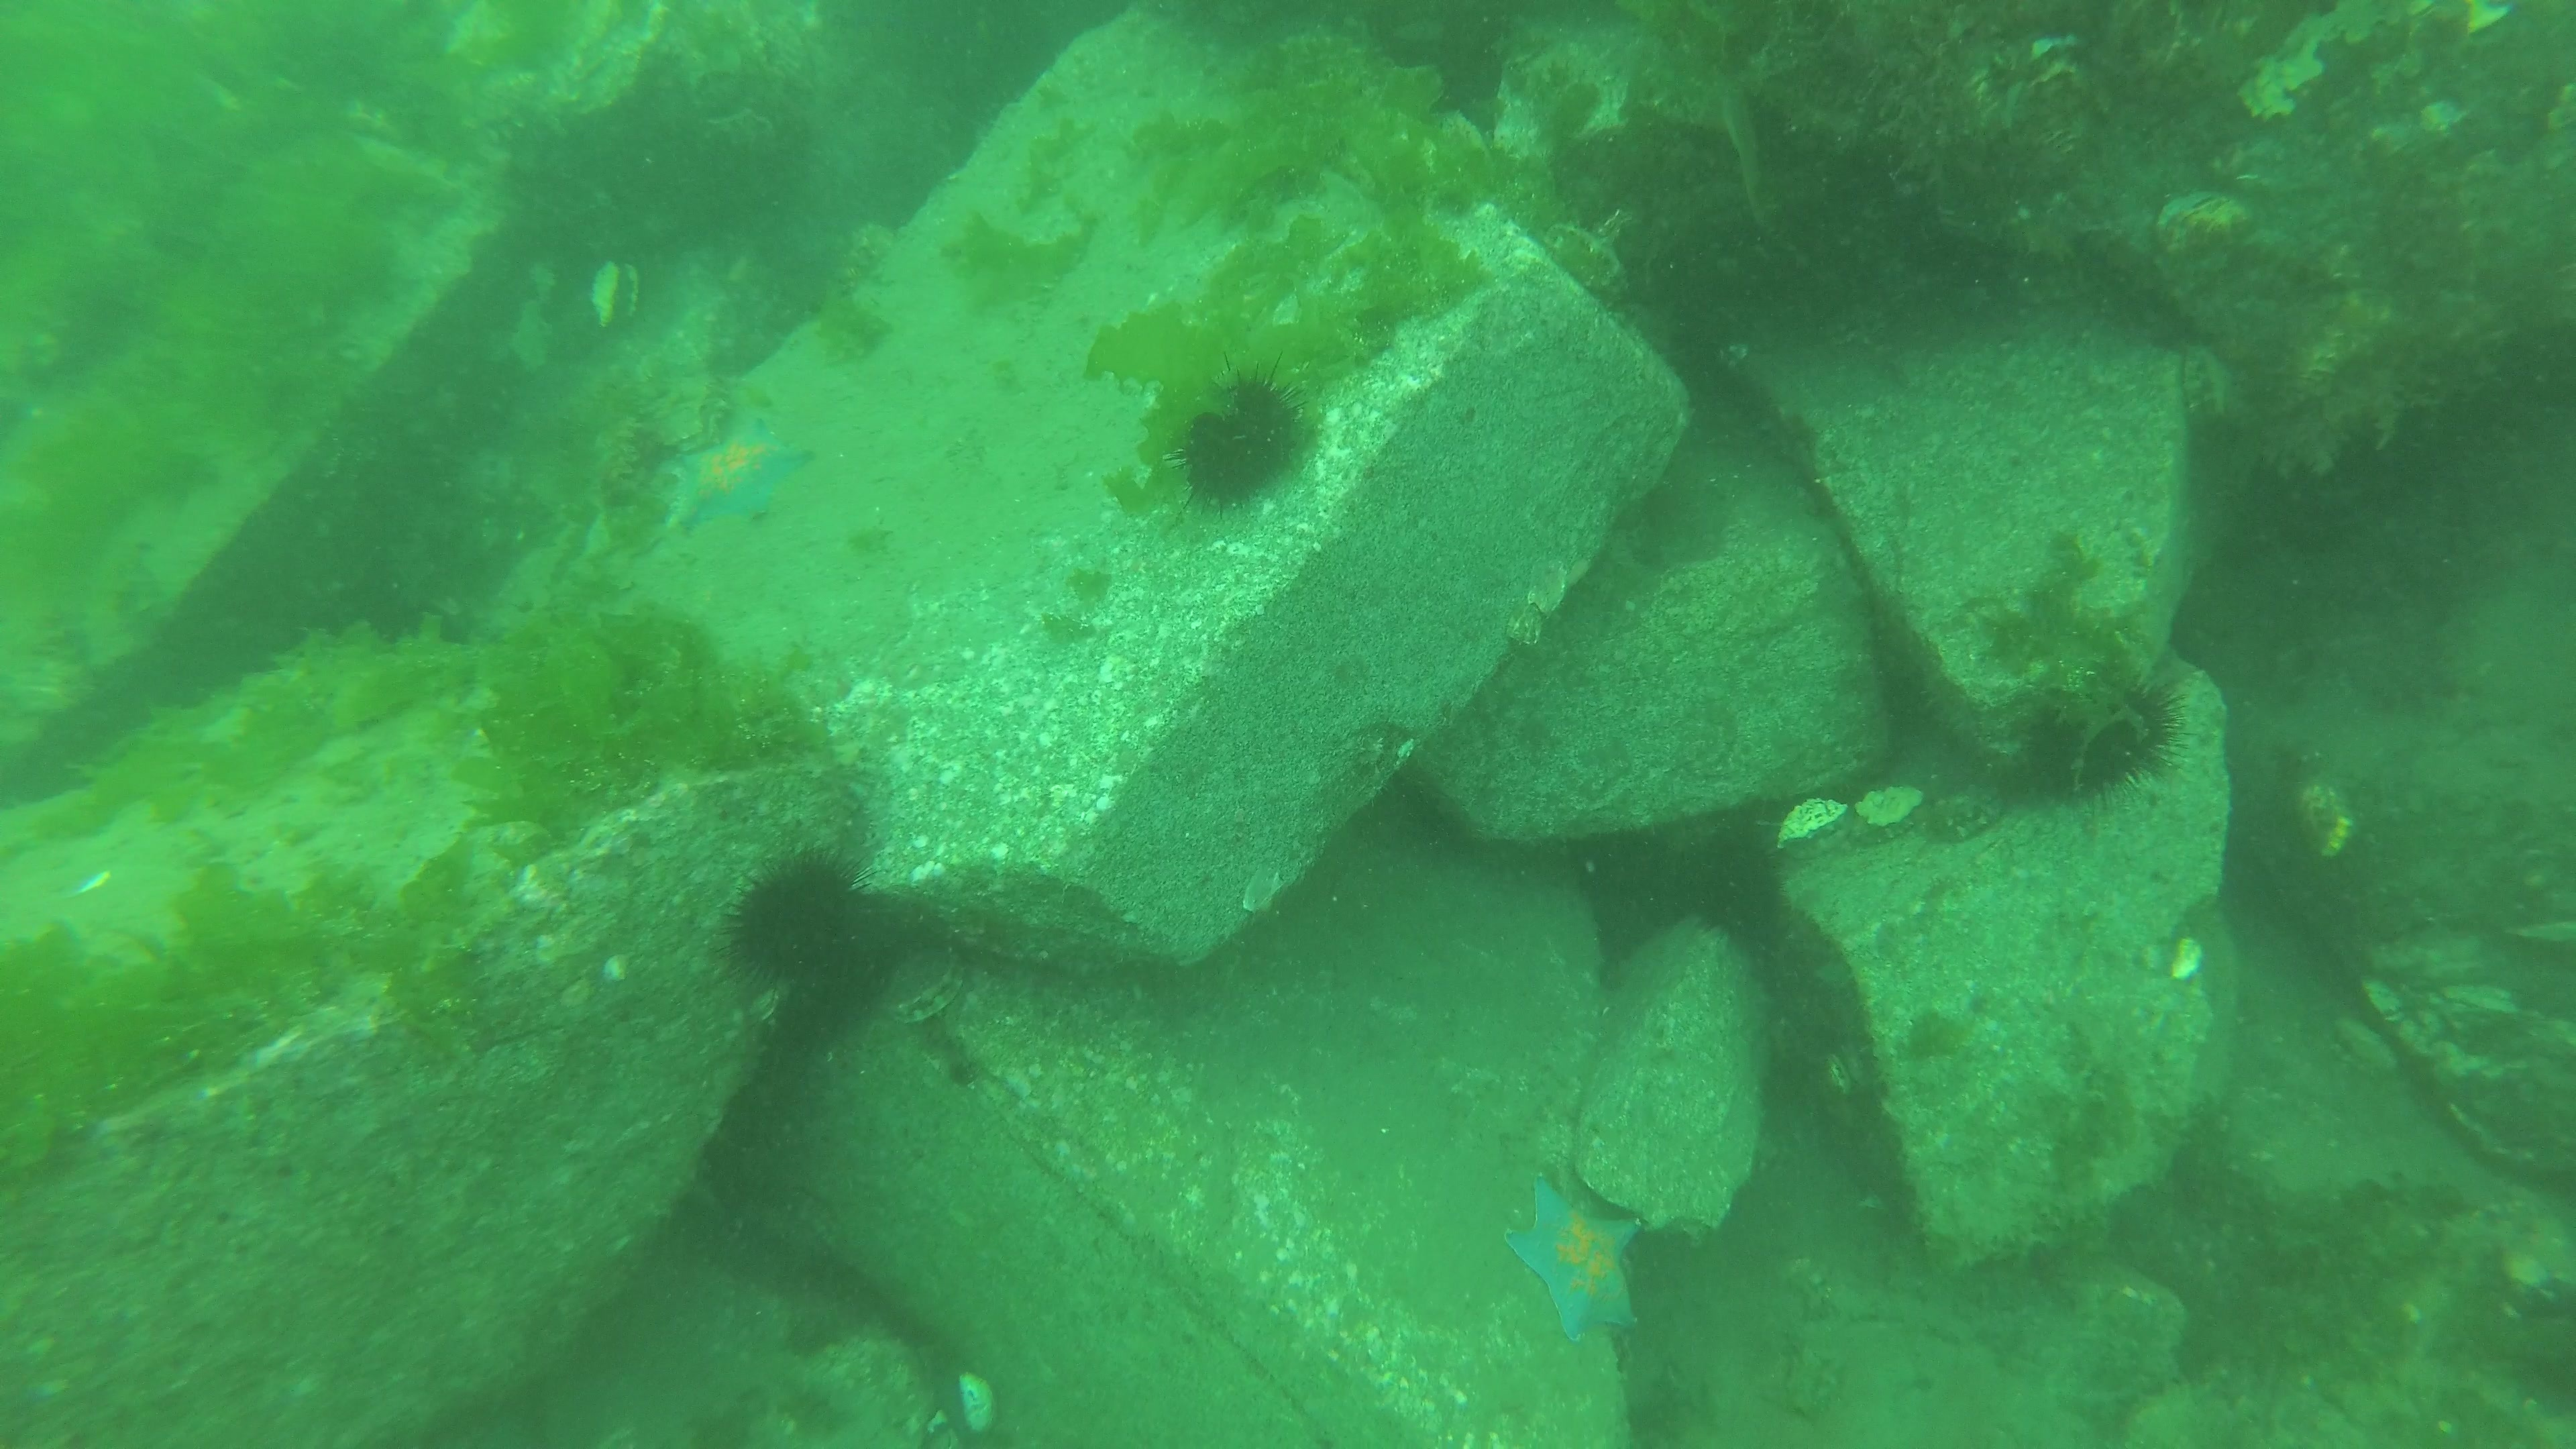echinus: (717, 856, 908, 1046), (2024, 667, 2178, 796), (1180, 368, 1306, 508), (1697, 821, 1787, 955)
starfish: (1506, 1171, 1640, 1343), (656, 416, 810, 536)
